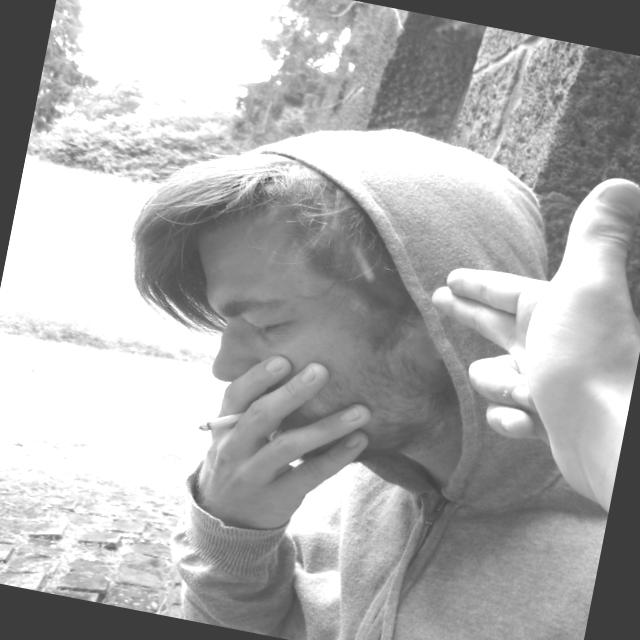smoke: (186, 402, 246, 449)
